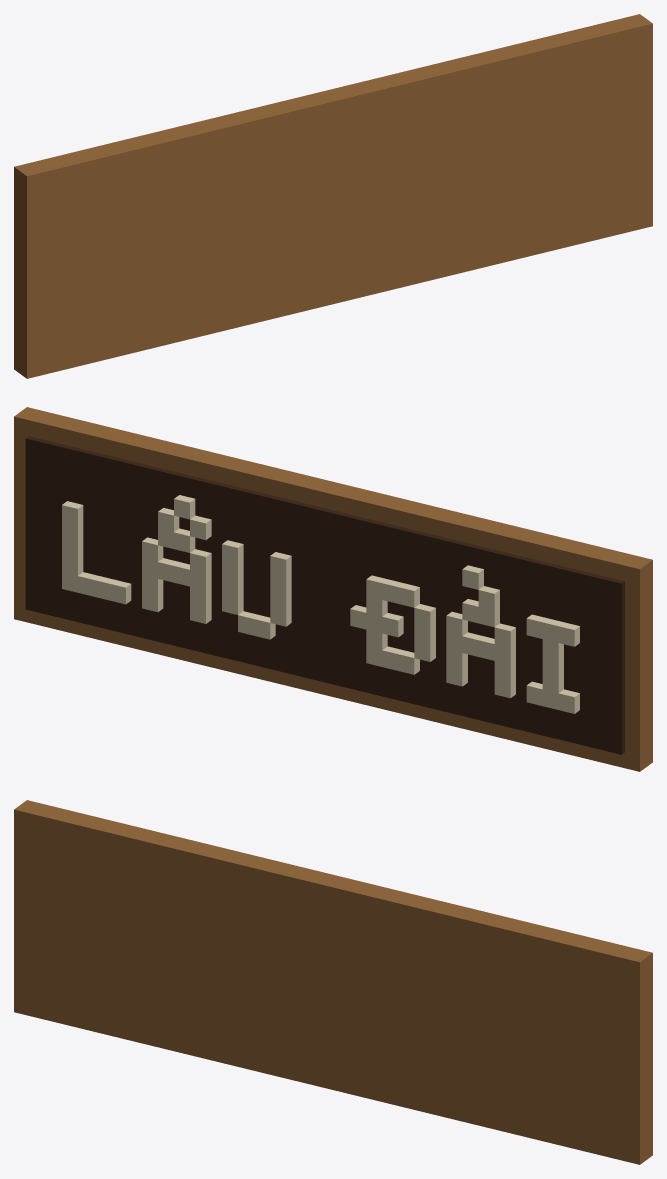
File: th-sign-lau-dai.glb
The picture shows the model from 3 angles, top to bottom: view 1: azimuth 30°, elevation 25°; view 2: azimuth 150°, elevation 25°; view 3: azimuth 330°, elevation 25°; orthographic projection.
Visible parts, largest first — view 1: box-prop; view 2: box-prop; view 3: box-prop.
Boxes of the visible parts, box(x1,y1,x2,y2) form: box-prop: box(14, 14, 652, 378); box-prop: box(14, 407, 652, 771); box-prop: box(14, 800, 652, 1164).
Size of the model in its own units: 3.32 by 1.03 by 0.2.
